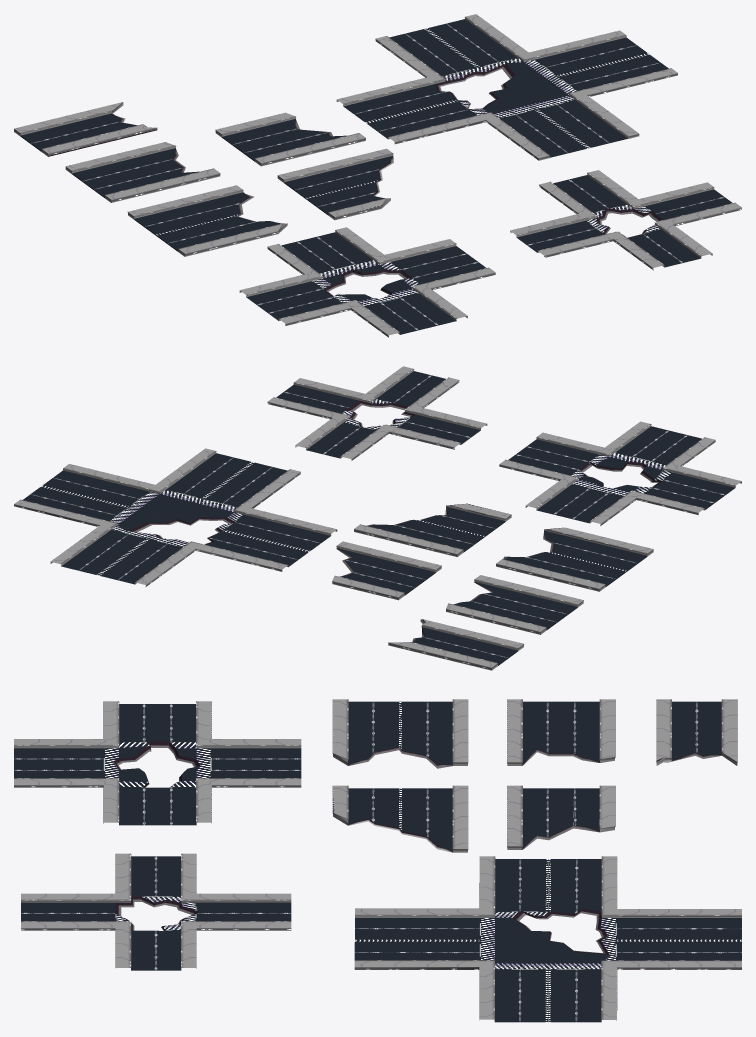
The model's file is KF_SM_BrokenRoadsKit 1.fbx.
3 renders of one model, top to bottom at view 1: azimuth 30°, elevation 25°; view 2: azimuth 150°, elevation 25°; view 3: azimuth 270°, elevation 25°, orthographic. The views are drawn at different scales.
Parts seen in each view (by area): view 1: SM_L_Xroad001, SM_M_Xroad001, SM_S_Xroad, SM_L_Road091, SM_M_Road091, SM_L_Road, SM_M_Road092, SM_S_Road091; view 2: SM_L_Xroad001, SM_M_Xroad001, SM_S_Xroad, SM_L_Road091, SM_M_Road091, SM_L_Road, SM_M_Road092, SM_S_Road091; view 3: SM_L_Xroad001, SM_M_Xroad001, SM_S_Xroad, SM_L_Road091, SM_L_Road, SM_M_Road091, SM_M_Road092, SM_S_Road091.
Part boxes in pixels (bbox=[...]): SM_L_Xroad001: bbox=[336, 14, 677, 160]; SM_M_Xroad001: bbox=[239, 227, 495, 337]; SM_S_Xroad: bbox=[510, 170, 741, 270]; SM_L_Road091: bbox=[127, 185, 287, 256]; SM_M_Road091: bbox=[65, 142, 220, 202]; SM_L_Road: bbox=[277, 148, 393, 220]; SM_M_Road092: bbox=[215, 112, 365, 166]; SM_S_Road091: bbox=[14, 102, 157, 156]; SM_L_Xroad001: bbox=[14, 448, 337, 586]; SM_M_Xroad001: bbox=[499, 421, 741, 525]; SM_S_Xroad: bbox=[267, 366, 487, 460]; SM_L_Road091: bbox=[496, 527, 653, 591]; SM_M_Road091: bbox=[446, 575, 583, 634]; SM_L_Road: bbox=[354, 503, 511, 556]; SM_M_Road092: bbox=[332, 541, 441, 600]; SM_S_Road091: bbox=[388, 619, 524, 670]; SM_L_Xroad001: bbox=[354, 856, 741, 1022]; SM_M_Xroad001: bbox=[14, 701, 301, 825]; SM_S_Xroad: bbox=[21, 853, 291, 970]; SM_L_Road091: bbox=[332, 699, 468, 768]; SM_L_Road: bbox=[332, 785, 468, 852]; SM_M_Road091: bbox=[507, 699, 615, 765]; SM_M_Road092: bbox=[507, 785, 615, 849]; SM_S_Road091: bbox=[656, 699, 737, 765].
Bounding box in the file's own units: 20332 × 183 × 19508.
